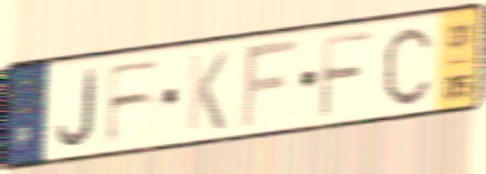C: (381, 24, 434, 109)
F: (237, 35, 303, 134), (103, 54, 166, 148), (316, 28, 376, 123)
J: (54, 65, 99, 151)
K: (184, 48, 232, 134)
